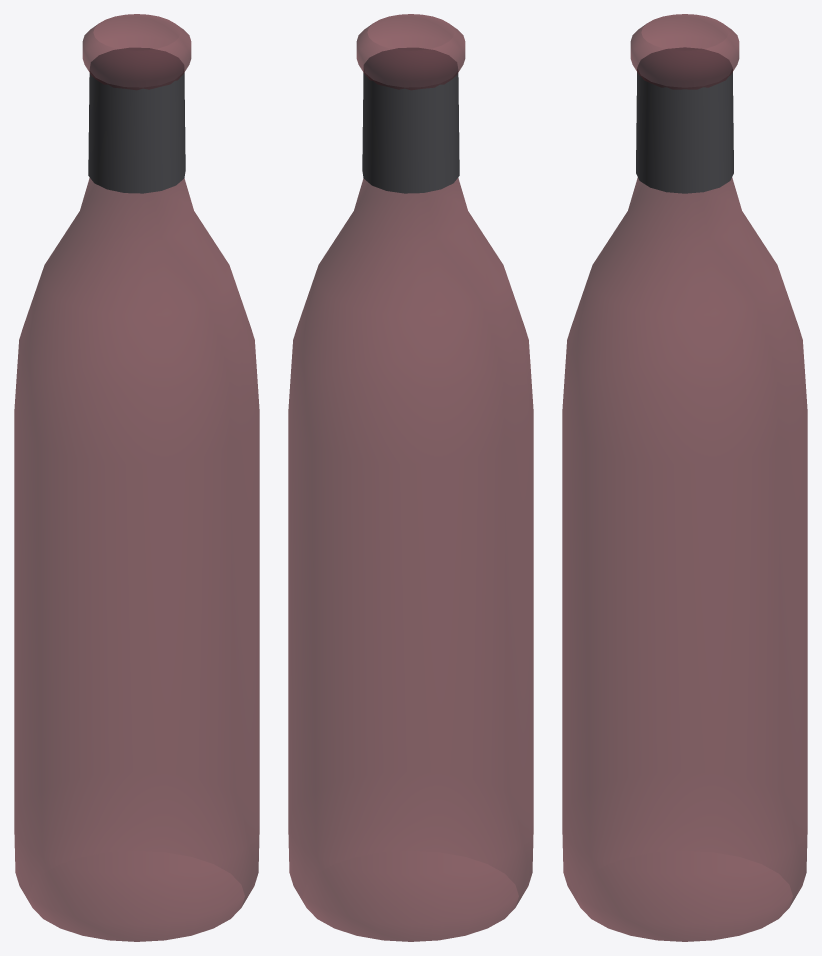
The model's file is NSF-DEGLAZE-BOTTLE.glb.
3 renders of one model, left to right at view 1: azimuth 30°, elevation 25°; view 2: azimuth 150°, elevation 25°; view 3: azimuth 270°, elevation 25°, orthographic.
Parts seen in each view (by area): view 1: asset_nsf_deglaze_bottle; view 2: asset_nsf_deglaze_bottle; view 3: asset_nsf_deglaze_bottle.
Boxes of the visible parts, box(x1,y1,x2,y2) form: asset_nsf_deglaze_bottle: box(14, 14, 259, 941); asset_nsf_deglaze_bottle: box(288, 14, 533, 941); asset_nsf_deglaze_bottle: box(562, 14, 807, 941).
Bounding box in the file's own units: 0.076 × 0.295 × 0.076.
